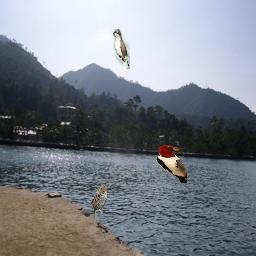Cuckoo: (113, 29, 130, 69)
Sparrow: (90, 184, 109, 224)
Woodpecker: (156, 145, 187, 183)
